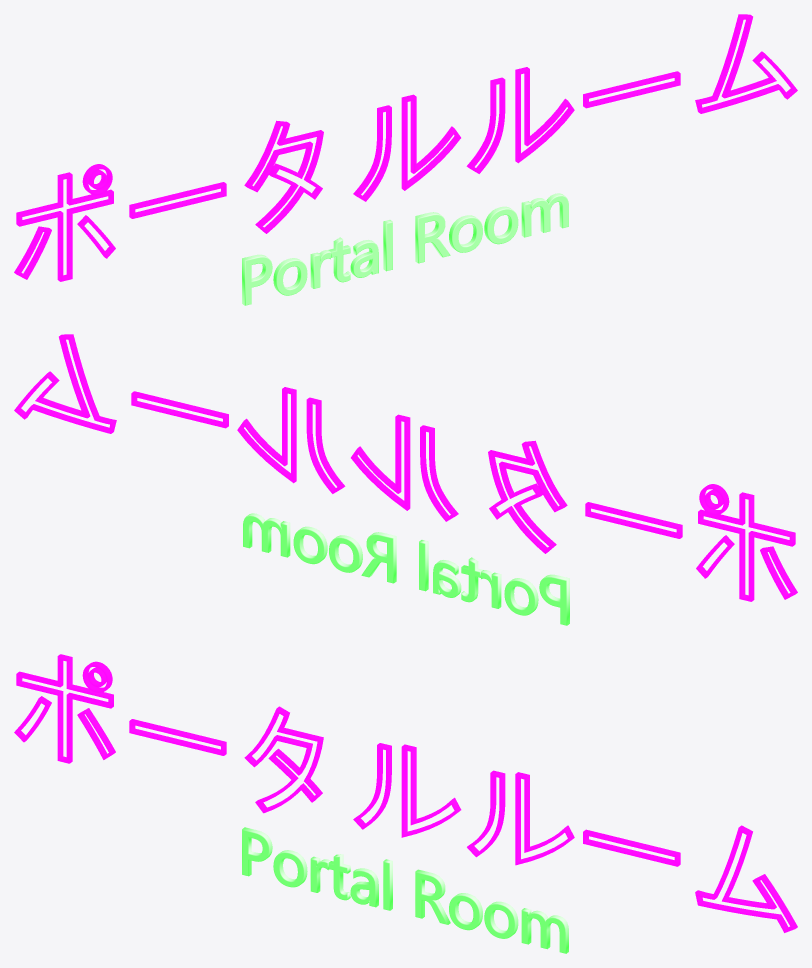
The model's file is PortalRoomSighn.fbx.
3 renders of one model, top to bottom at view 1: azimuth 30°, elevation 25°; view 2: azimuth 150°, elevation 25°; view 3: azimuth 330°, elevation 25°, orthographic.
Parts seen in each view (by area): view 1: Japanese.002, PortalRoom; view 2: Japanese.002, PortalRoom; view 3: Japanese.002, PortalRoom.
Part boxes in pixels (x1=…): Japanese.002: x1=14, y1=14, x2=797, y2=281; PortalRoom: x1=242, y1=193, x2=568, y2=305; Japanese.002: x1=14, y1=334, x2=797, y2=601; PortalRoom: x1=243, y1=513, x2=569, y2=625; Japanese.002: x1=14, y1=654, x2=797, y2=932; PortalRoom: x1=242, y1=827, x2=568, y2=953.
Bounding box in the file's own units: 533 × 115 × 5.
